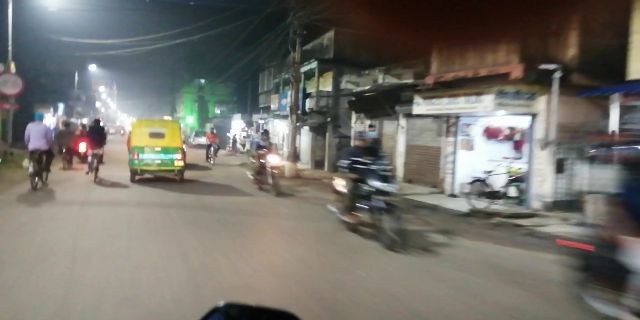Autorickshaw: (127, 117, 193, 191)
Cycle: (22, 146, 53, 194)
Motorbike: (327, 132, 414, 253), (237, 125, 284, 203)
